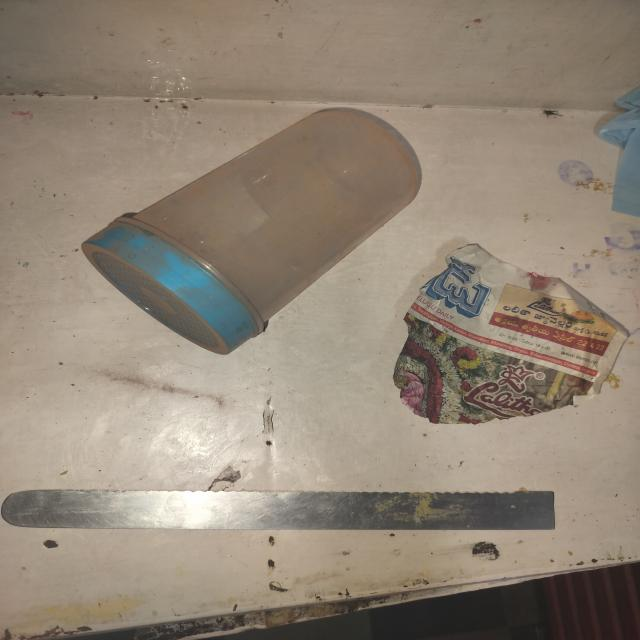dry: (88, 107, 401, 354), (15, 468, 574, 586), (420, 253, 632, 454)
